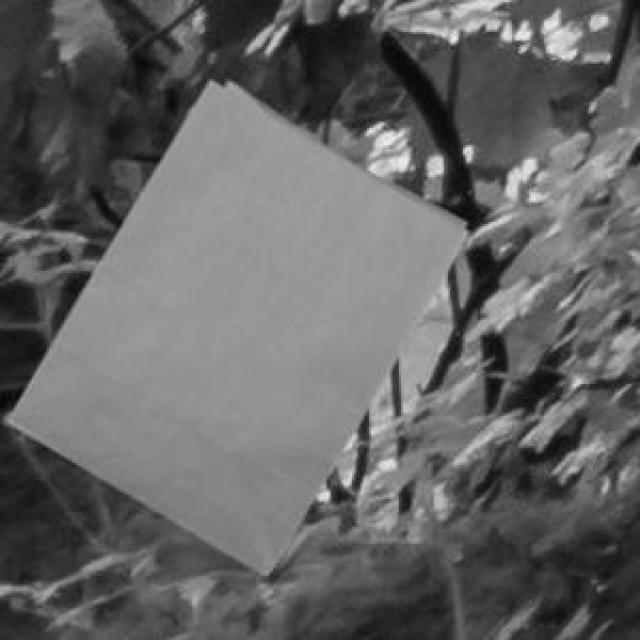paper: (4, 77, 465, 570)
